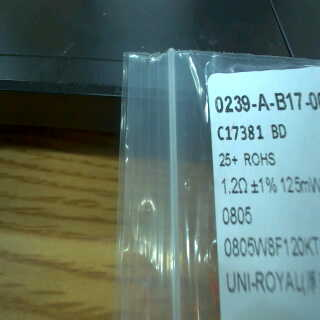1.2R: (221, 173, 254, 226)
